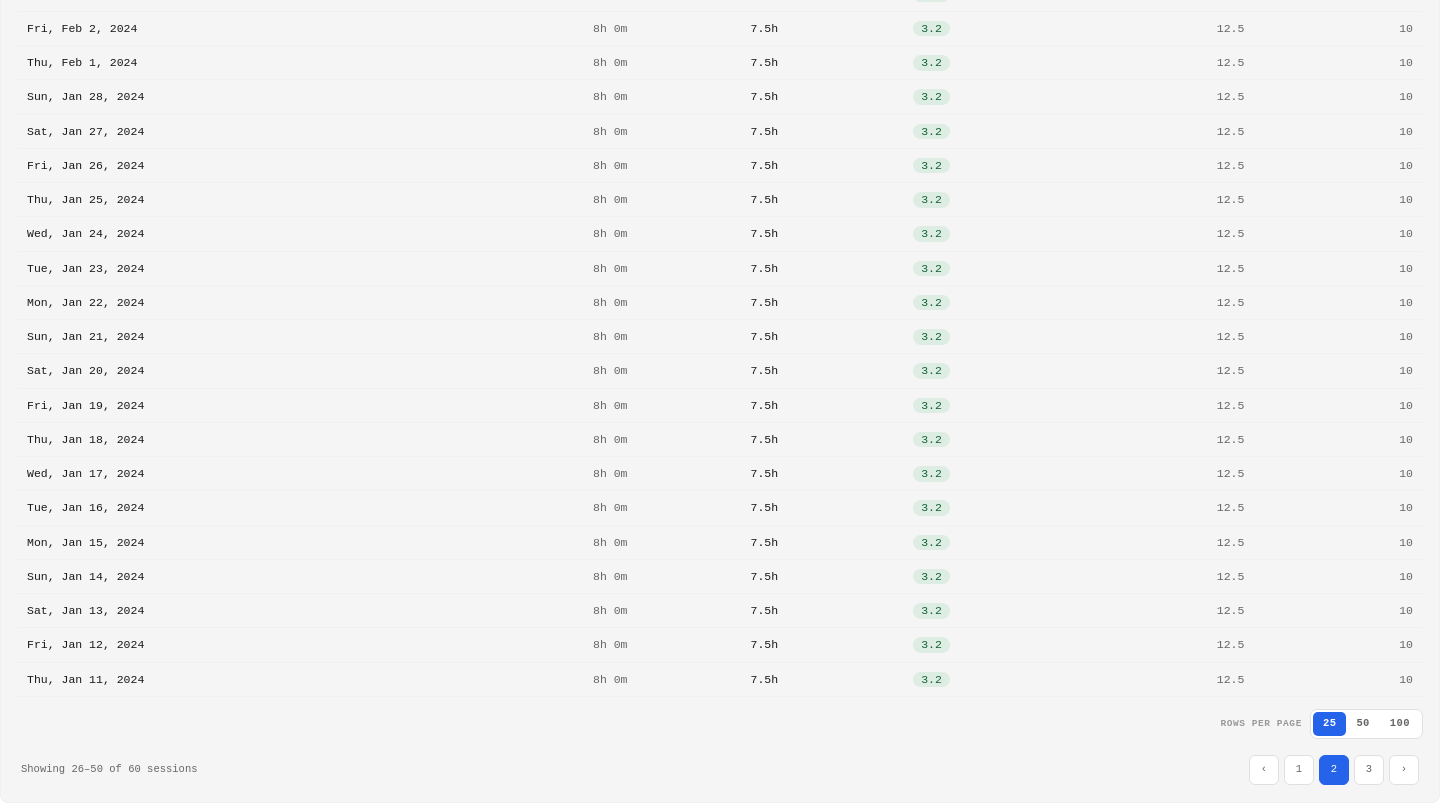
Test case: SessionList — pagination URL state › drops the page param (deletes ?page) when returning to page 1 via the controls
(page scrolled)
// "Prev" from page 2 lands on page 1, which deletes the param for a clean URL.
Click the button named "Previous page": click(1264, 770) [1249,755,1279,785]
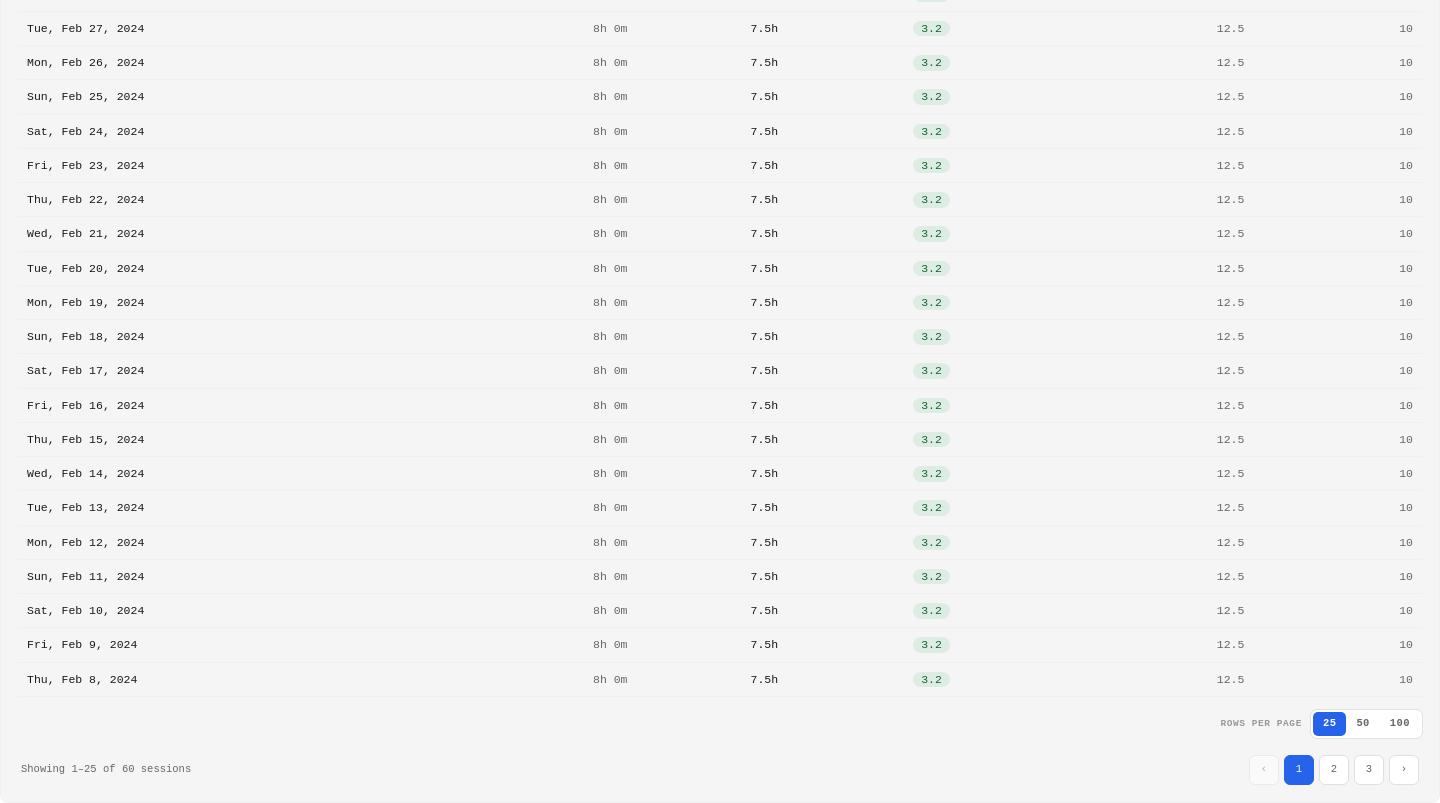
Expected: the text "Showing 1–25 of 60 sessions" is shown, [21,762,191,778]
